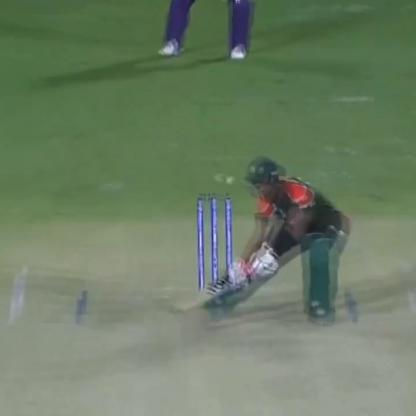ball: (222, 174, 240, 188)
bat: (166, 263, 252, 316)
pitch: (4, 266, 416, 416)
